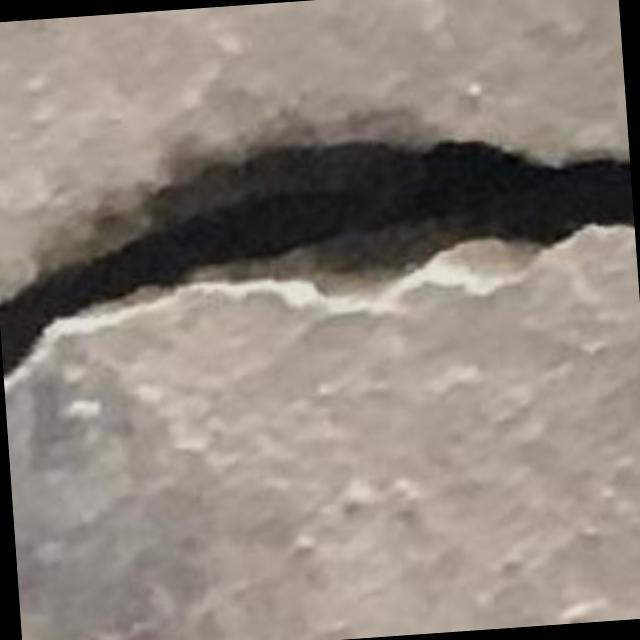crack: (0, 134, 634, 380)
